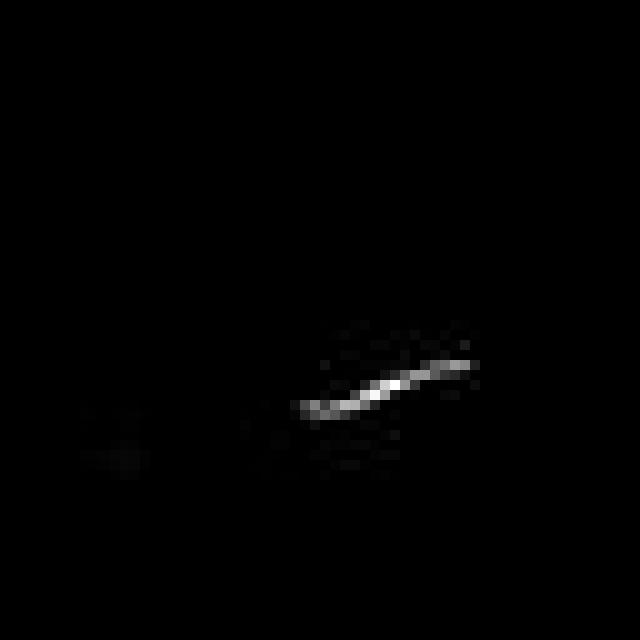1 -one-: (308, 347, 473, 436)
